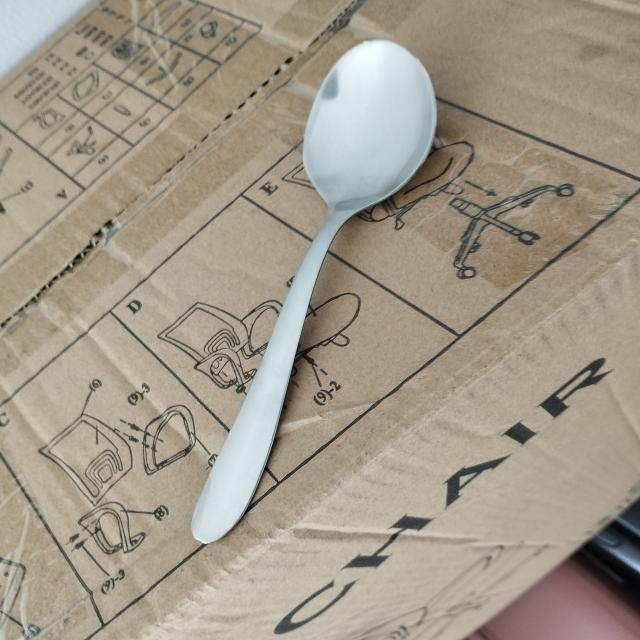Spoon: (135, 29, 463, 552)
